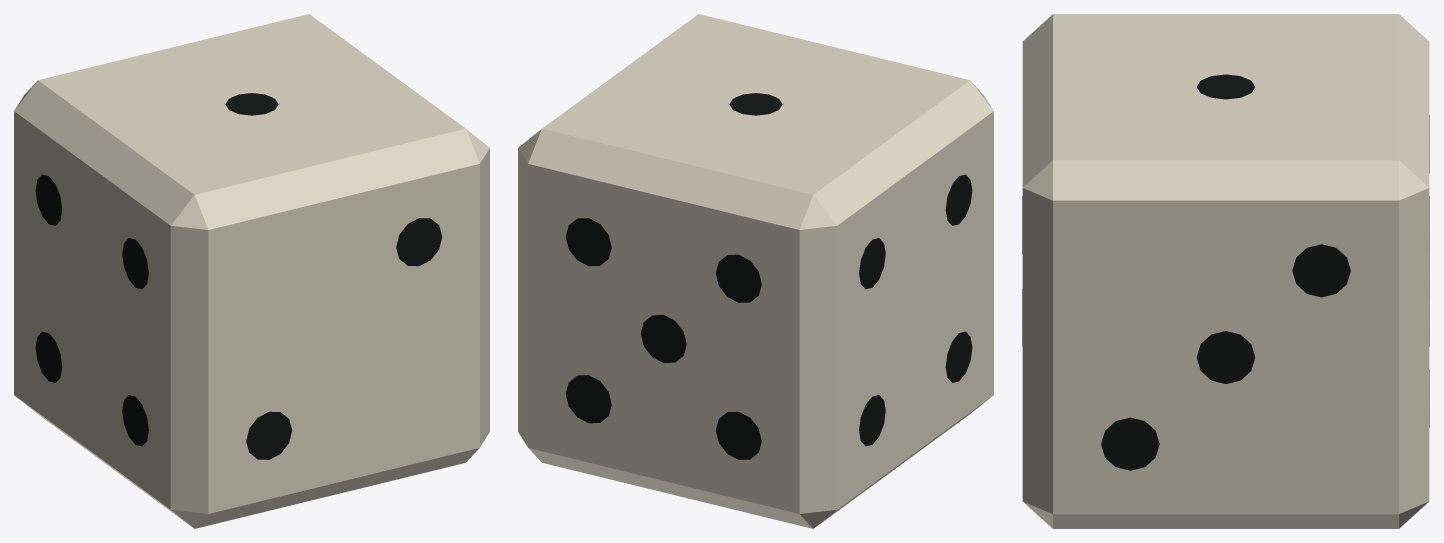
File: ivory-die-a.glb
The picture shows the model from 3 angles, left to right: view 1: azimuth 30°, elevation 25°; view 2: azimuth 150°, elevation 25°; view 3: azimuth 270°, elevation 25°; orthographic projection. The views are drawn at different scales.
Visible parts, largest first — view 1: Ivory die A ivory body, Ivory die A inlaid pips; view 2: Ivory die A ivory body, Ivory die A inlaid pips; view 3: Ivory die A ivory body, Ivory die A inlaid pips.
Part boxes in pixels (bbox=[...]): Ivory die A ivory body: bbox=[14, 14, 489, 528]; Ivory die A inlaid pips: bbox=[35, 93, 442, 459]; Ivory die A ivory body: bbox=[518, 14, 993, 528]; Ivory die A inlaid pips: bbox=[565, 93, 972, 459]; Ivory die A ivory body: bbox=[1022, 14, 1429, 528]; Ivory die A inlaid pips: bbox=[1022, 74, 1429, 470].
Bounding box in the file's own units: 0.1001 × 0.1001 × 0.1001.
